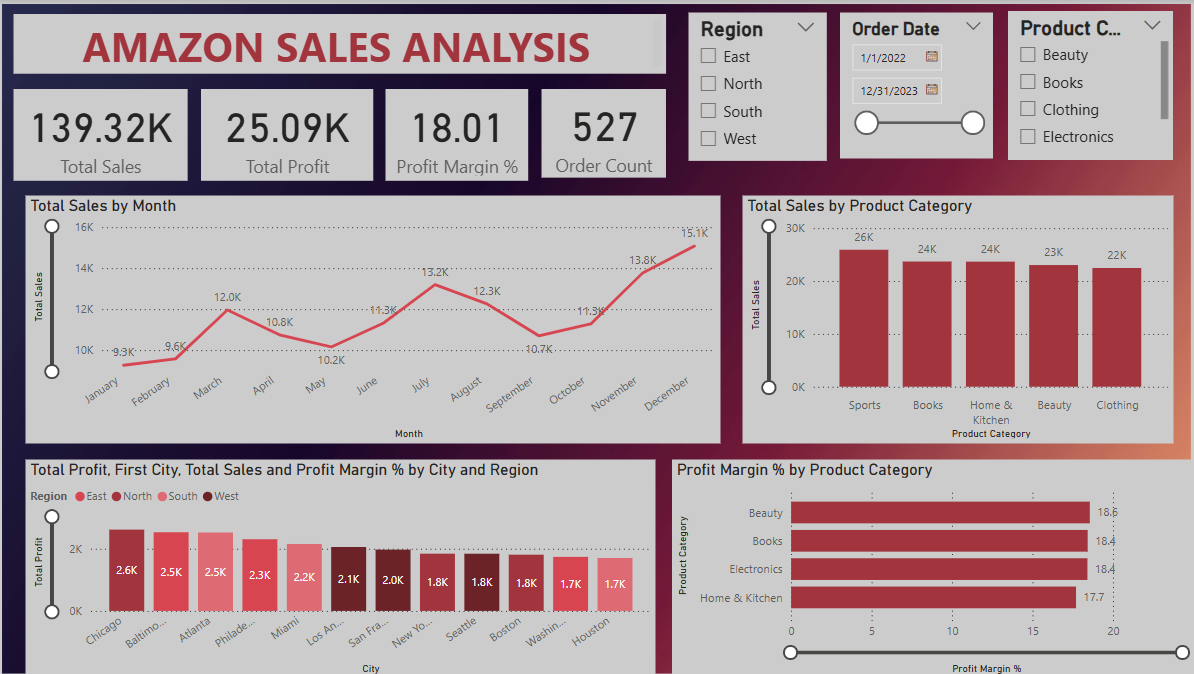

This screenshot's page, from the dashboard's own definition file:
{"tool":"powerbi","page":{"name":"Page 2","canvas":[1280,720],"ordinal":0},"visuals":[{"type":"image","box":[9.5,0,1270.9,720.5],"z":0},{"type":"card","fields":{"Values":["Sheet1.Total Sales"]},"box":[27,95.4,184.5,97],"z":1000},{"type":"card","fields":{"Values":["Sheet1.Total Profit"]},"box":[225.9,95.4,182.9,97],"z":2000},{"type":"card","fields":{"Values":["Sheet1.Profit Margin %"]},"box":[421.5,95.4,151.1,97],"z":3000},{"type":"card","fields":{"Values":["Sheet1.Order Count"]},"box":[586.9,95.4,132,93.8],"z":4000},{"type":"textbox","box":[27,15.9,691.9,63.6],"z":5000},{"type":"lineChart","fields":{"Category":["Sheet1.Order Date.Variation.Date Hierarchy.Month"],"Y":["Sheet1.Total Sales"]},"box":[39.8,208.4,736.5,262.5],"z":6000},{"type":"columnChart","fields":{"Category":["Sheet1.Product Category"],"Y":["Sheet1.Total Sales"]},"box":[800.1,208.4,456.5,262.5],"z":7000},{"type":"columnChart","fields":{"Category":["Sheet1.City"],"Y":["Sheet1.Total Profit"],"Series":["Sheet1.Region"]},"box":[39.8,488.3,668.1,232.2],"z":8000},{"type":"clusteredBarChart","fields":{"Category":["Sheet1.Product Category"],"Y":["Sheet1.Profit Margin %"]},"box":[725.7,487.6,553.7,232.4],"z":9000},{"type":"slicer","fields":{"Values":["Sheet1.Region"]},"box":[742.8,14.3,146.3,157.5],"z":9001},{"type":"slicer","fields":{"Values":["Sheet1.Order Date"]},"box":[903.5,14.3,162.2,154.3],"z":9002},{"type":"slicer","fields":{"Values":["Sheet1.Product Category"]},"box":[1081.6,12.7,175,157.5],"z":9003}]}

Visuals, with their boxes in screenshot pixels (x1, y1, x2, y2), scaled from the page's 1280x720 canvas onto the 1194x674 screenshot:
image: 9 0 1193 673
card - Sheet1.Total Sales: 25 89 197 180
card - Sheet1.Total Profit: 211 89 381 180
card - Sheet1.Profit Margin %: 393 89 534 180
card - Sheet1.Order Count: 547 89 671 177
textbox: 25 15 671 74
lineChart - Sheet1.Order Date.Variation.Date Hierarchy.Month x Sheet1.Total Sales: 37 195 724 441
columnChart - Sheet1.Product Category x Sheet1.Total Sales: 746 195 1172 441
columnChart - Sheet1.City x Sheet1.Total Profit: 37 457 660 673
clusteredBarChart - Sheet1.Product Category x Sheet1.Profit Margin %: 677 456 1193 673
slicer - Sheet1.Region: 693 13 829 161
slicer - Sheet1.Order Date: 843 13 994 158
slicer - Sheet1.Product Category: 1009 12 1172 159
